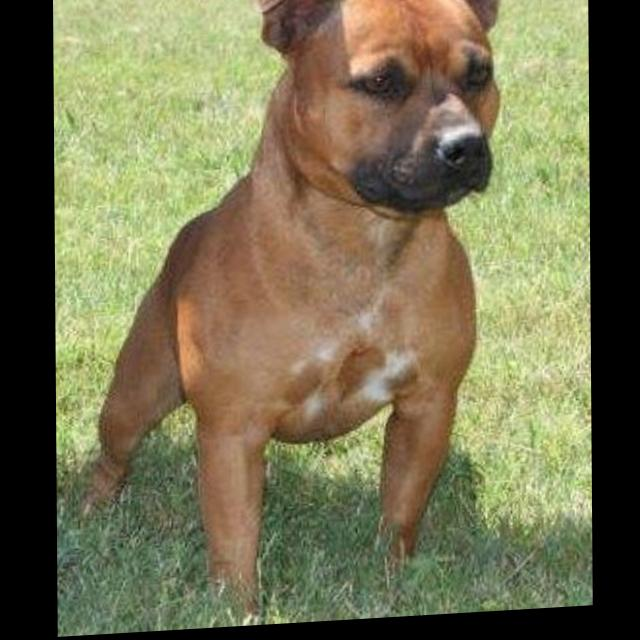staffford: (73, 1, 543, 638)
